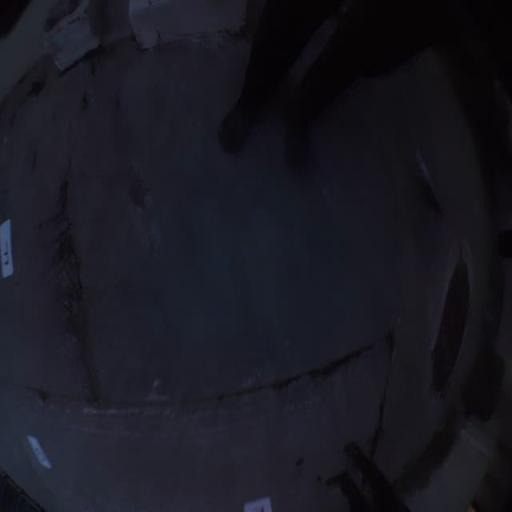D: (30, 442, 53, 469)
H: (0, 218, 14, 280)
T: (242, 496, 272, 512)
